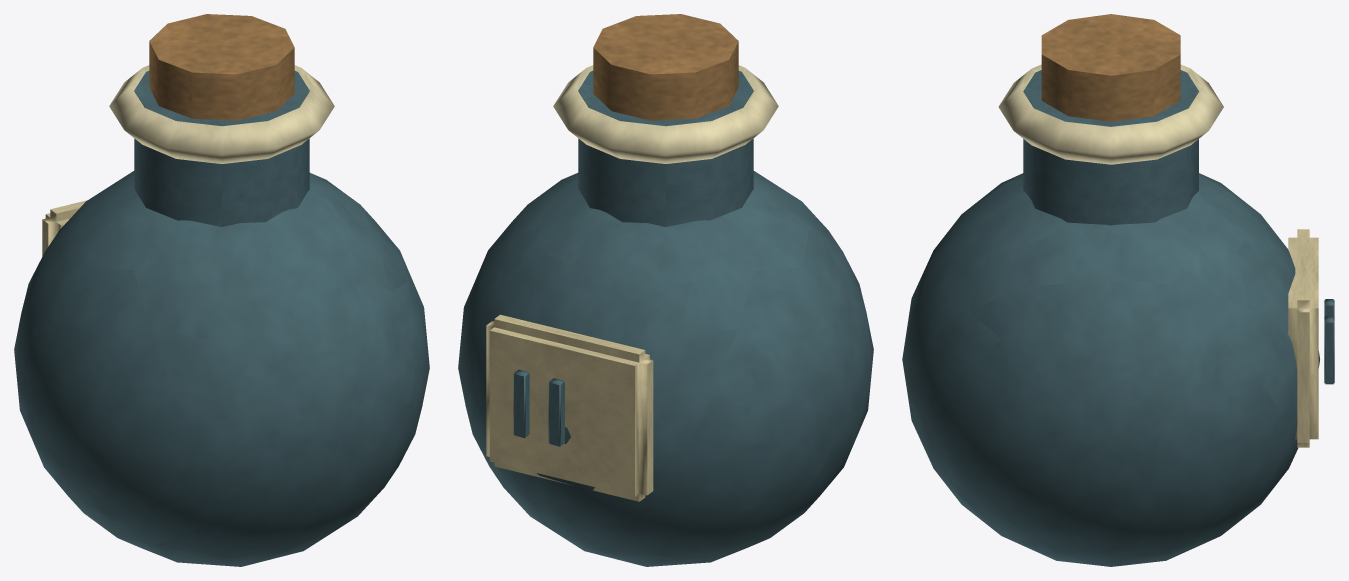
File: item-SpeedTonic.fbx
3 renders of one model, left to right at view 1: azimuth 30°, elevation 25°; view 2: azimuth 150°, elevation 25°; view 3: azimuth 270°, elevation 25°, orthographic.
Parts seen in each view (by area): view 1: item-SpeedTonic__Geometry; view 2: item-SpeedTonic__Geometry; view 3: item-SpeedTonic__Geometry.
Boxes of the visible parts, x1,y1,x2,y2 form: item-SpeedTonic__Geometry: [14, 14, 429, 566]; item-SpeedTonic__Geometry: [458, 14, 873, 566]; item-SpeedTonic__Geometry: [902, 14, 1334, 566].
Size of the model in its own units: 0.36 by 0.479 by 0.3725.
Materials: 1 (1 with a texture image).
